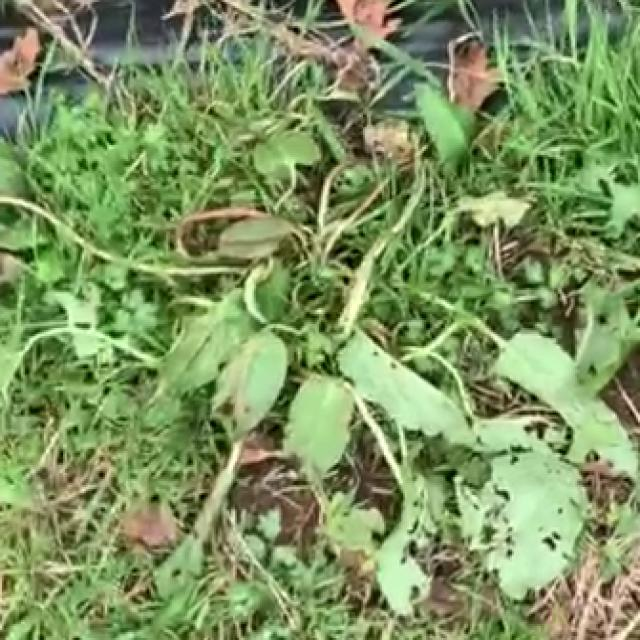organic waste: (124, 110, 640, 640)
